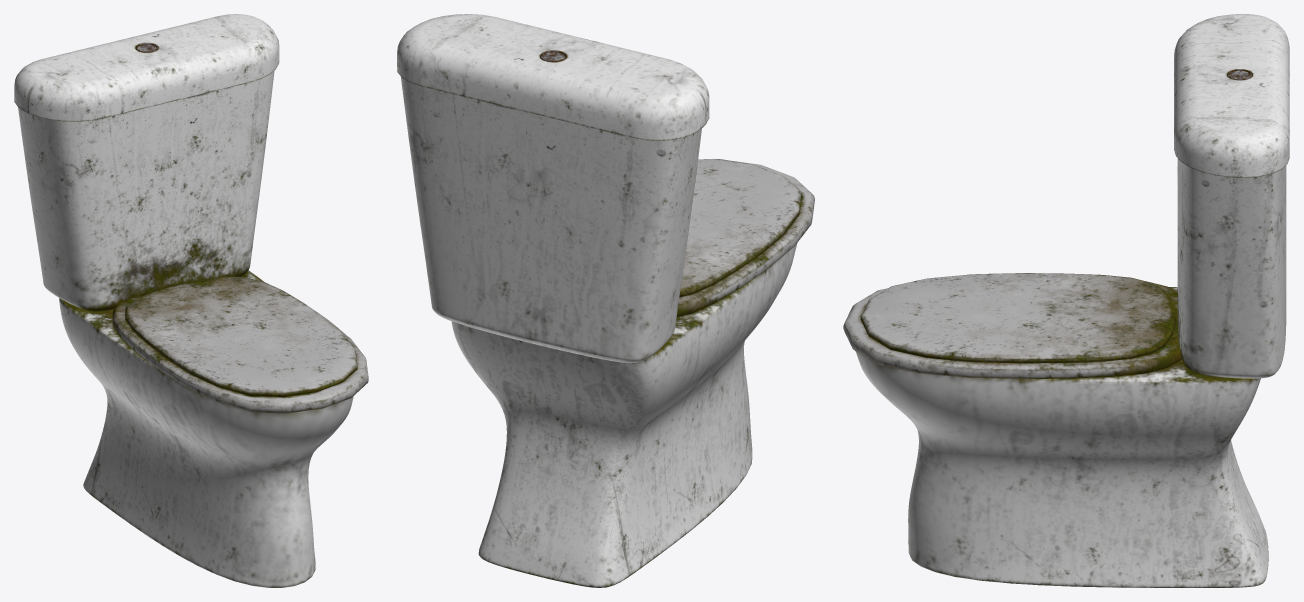
Rendered from dirty_water_closet.glb.
3 renders of one model, left to right at view 1: azimuth 30°, elevation 25°; view 2: azimuth 150°, elevation 25°; view 3: azimuth 270°, elevation 25°, orthographic. The views are drawn at different scales.
Parts seen in each view (by area): view 1: Cube.003, Cube, Cube.002, Cube.004, Cube.001; view 2: Cube.003, Cube, Cube.004, Cube.002, Cube.001; view 3: Cube, Cube.002, Cube.003, Cube.004, Cube.001.
Boxes of the visible parts, x1,y1,x2,y2 form: Cube.003: (18,70,274,311); Cube: (59,270,353,587); Cube.002: (125,276,357,396); Cube.004: (14,14,279,121); Cube.001: (112,276,368,413); Cube.003: (401,77,701,363); Cube: (451,243,797,587); Cube.004: (397,14,709,140); Cube.002: (679,158,801,297); Cube.001: (676,159,814,316); Cube: (855,287,1268,587); Cube.002: (860,273,1175,363); Cube.003: (1177,158,1286,378); Cube.004: (1174,14,1289,177); Cube.001: (843,282,1181,378).
Size of the model in its own units: 1.09 by 1.79 by 1.5.
Materials: 1 (1 with a texture image).
